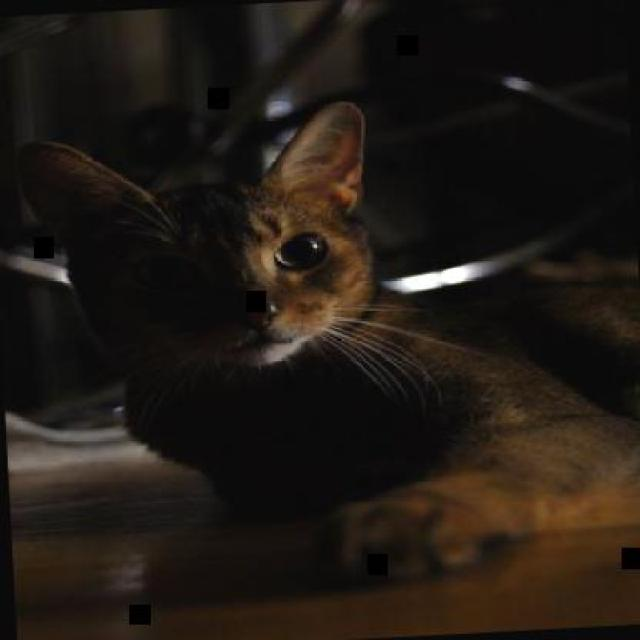cat: (12, 83, 638, 599)
